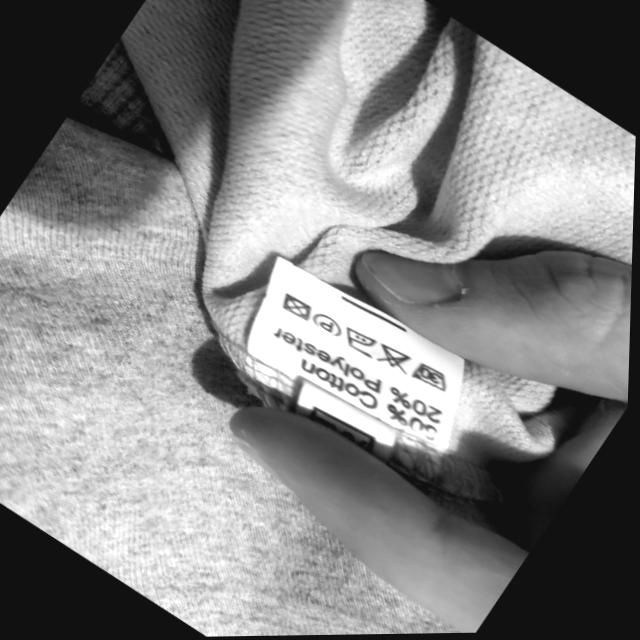30C: (413, 363, 448, 390)
DN_bleach: (381, 343, 411, 370)
DN_tumble_dry: (284, 292, 313, 319)
dry_clean_any_solvent_except_trichloroethylene: (315, 309, 344, 338)
iron_medium: (348, 323, 378, 356)
